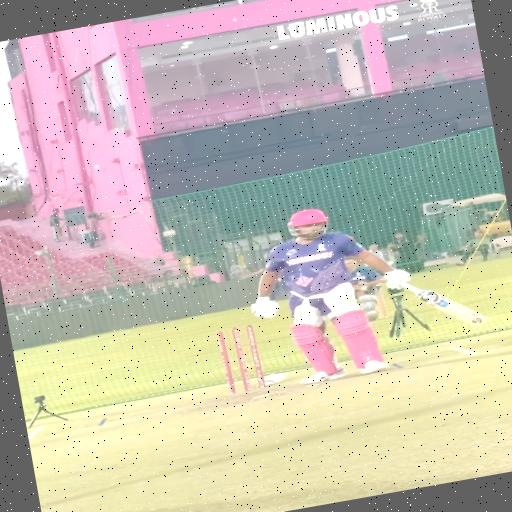Cricket bat: (402, 283, 486, 325)
